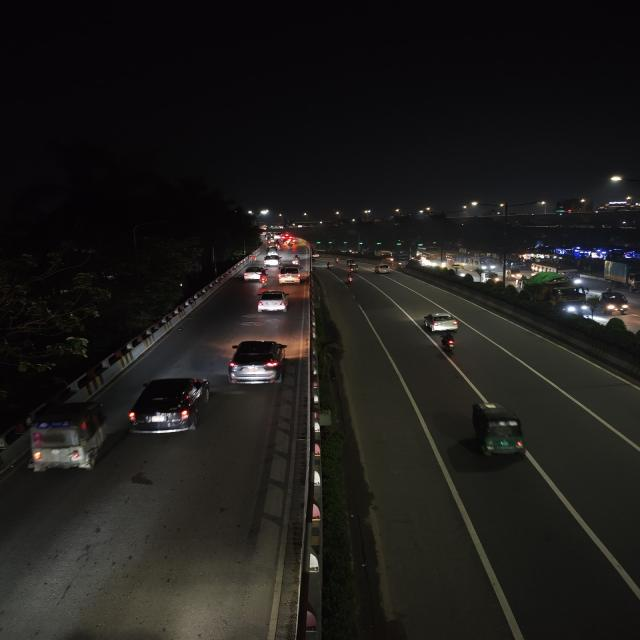bus: (530, 258, 577, 279), (455, 252, 495, 270), (447, 253, 476, 270), (419, 252, 444, 268)
car: (125, 372, 212, 438), (223, 338, 290, 388), (255, 289, 291, 315), (421, 311, 460, 334), (277, 266, 303, 286), (241, 267, 269, 283), (263, 254, 283, 267), (373, 264, 392, 274)
cng: (29, 400, 110, 476), (464, 400, 532, 462), (266, 244, 282, 256)
motorcycle: (438, 332, 460, 354), (343, 273, 355, 287), (325, 260, 334, 269)
pickup_van: (600, 290, 632, 314)
truck: (522, 269, 591, 315), (602, 259, 639, 290)
